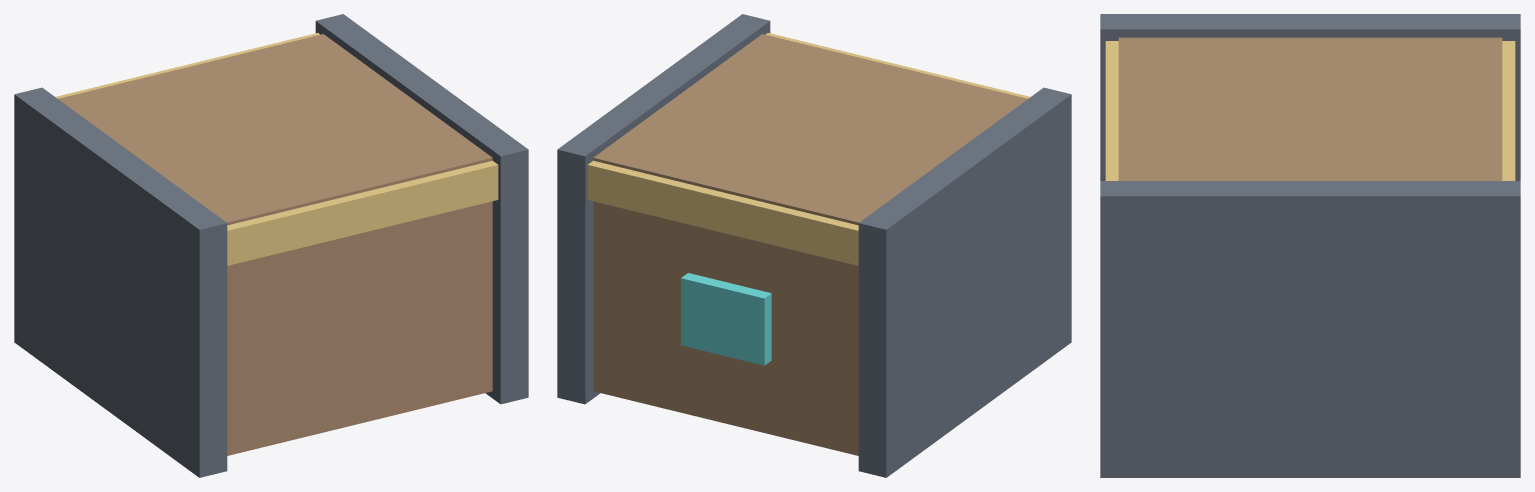
The model's file is reward-crate.glb.
The picture shows the model from 3 angles, left to right: view 1: azimuth 30°, elevation 25°; view 2: azimuth 150°, elevation 25°; view 3: azimuth 270°, elevation 25°; orthographic projection. The views are drawn at different scales.
Parts seen in each view (by area): view 1: world; view 2: world; view 3: world.
Part boxes in pixels (x1,y1,x2,y2): world: [14, 14, 528, 477]; world: [557, 14, 1071, 477]; world: [1100, 14, 1520, 477].
Size of the model in its own units: 1.18 by 0.85 by 1.15.
